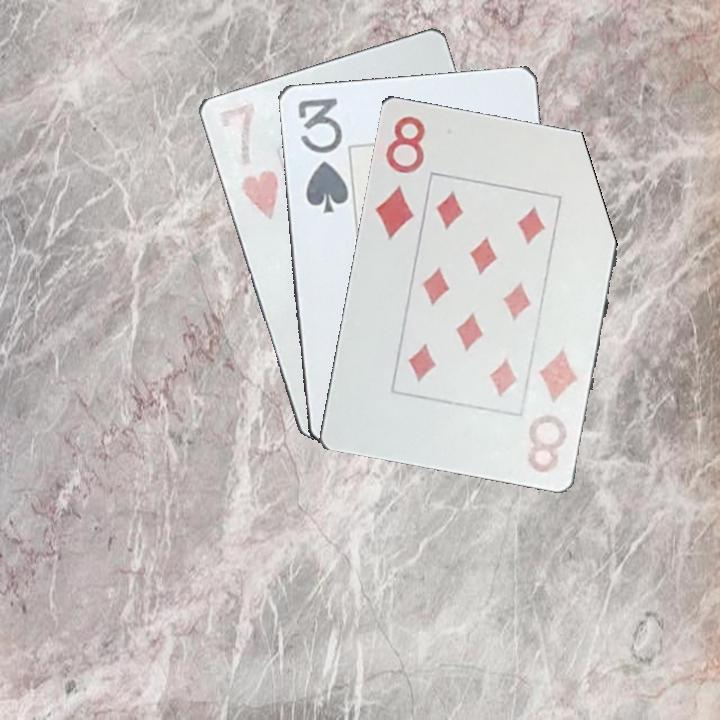3s: (293, 94, 349, 216)
7h: (214, 98, 281, 223)
8d: (370, 111, 428, 243), (523, 344, 580, 475)
